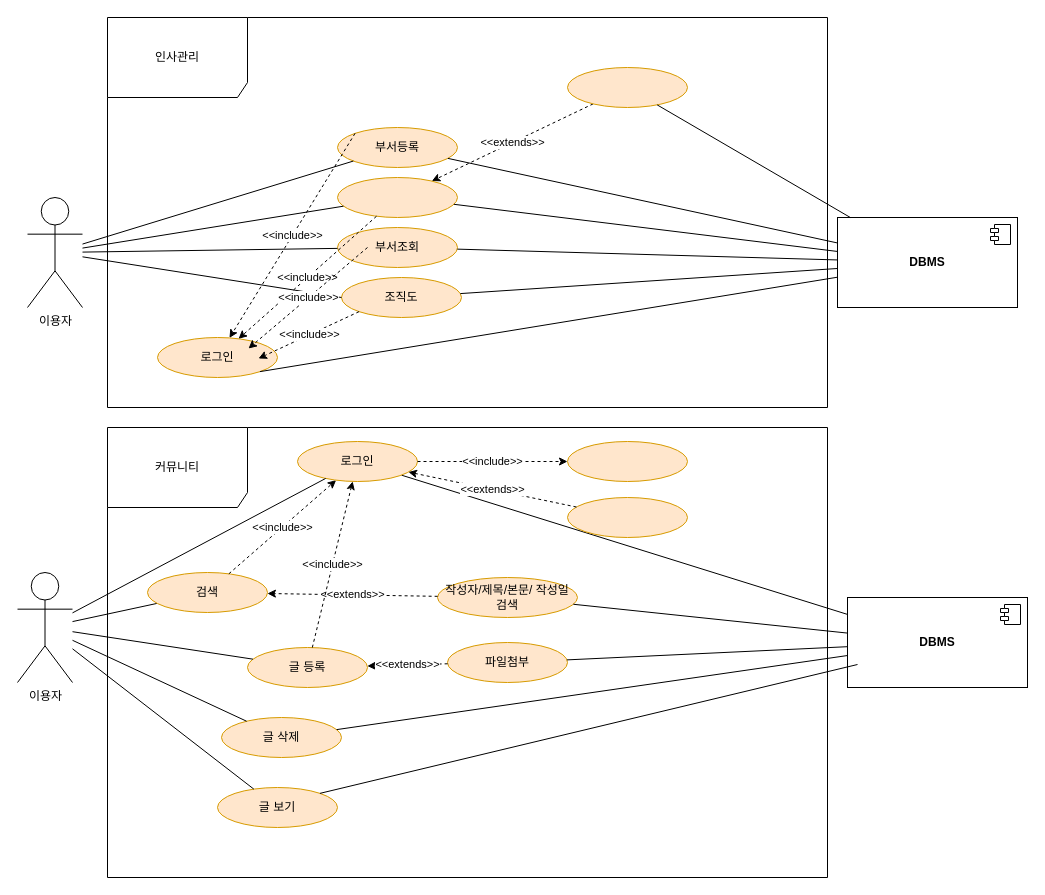
This 1045x895 diagram has some shape labels left out. The shapes that lost their labels are listed below. From the top down, each one's centre as x and y in pixels, then its label:
At (627,87): "프로필사진첨부".
At (397,197): "인사등록".
At (627,461): "인증".
At (627,517): "로그인실패".
